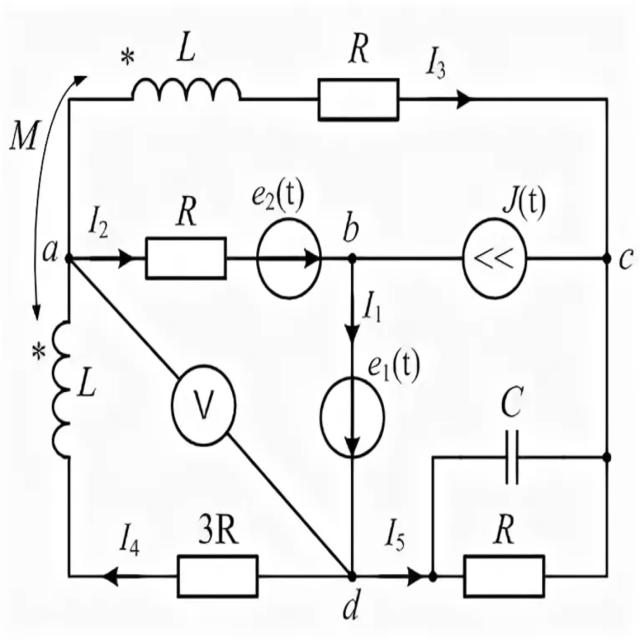cap: (500, 420, 522, 489)
ind: (47, 316, 77, 461), (125, 73, 247, 107)
net: (394, 92, 613, 106), (60, 451, 77, 581), (55, 572, 182, 584), (237, 92, 326, 106), (427, 450, 508, 464), (64, 93, 136, 106), (539, 570, 612, 580), (220, 252, 264, 265)
net_node: (602, 94, 613, 582), (252, 567, 469, 585), (318, 252, 468, 268), (65, 94, 74, 327), (346, 452, 360, 588), (427, 451, 440, 584), (516, 451, 618, 467), (521, 252, 614, 268), (347, 252, 357, 380), (62, 251, 150, 264)
res: (143, 231, 230, 284), (460, 548, 546, 601), (316, 75, 402, 126), (174, 551, 262, 600)
source: (164, 360, 241, 449), (254, 213, 325, 305), (316, 373, 389, 461), (460, 215, 529, 300)
